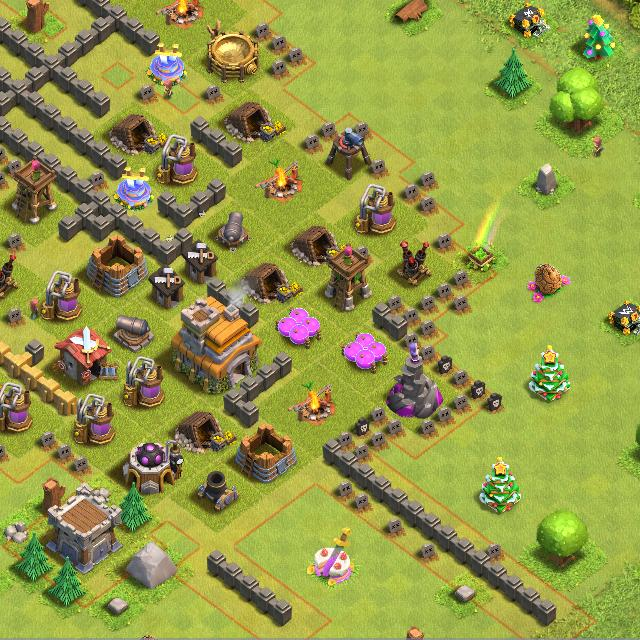Arqueira: (327, 243, 372, 311), (12, 158, 56, 226)
Canhao: (208, 206, 256, 254), (111, 308, 158, 355)
